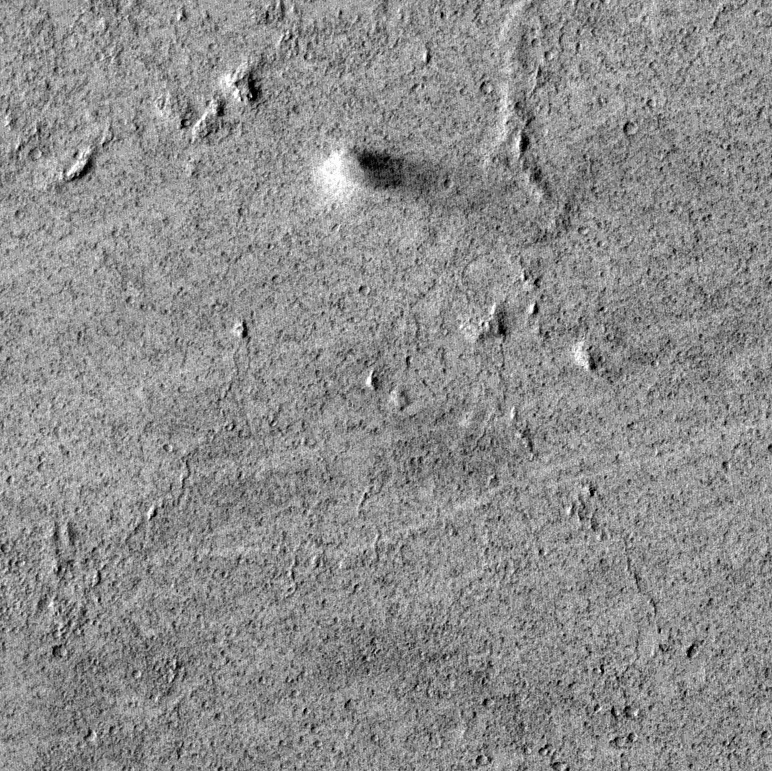dust_devil: (313, 143, 489, 219)
